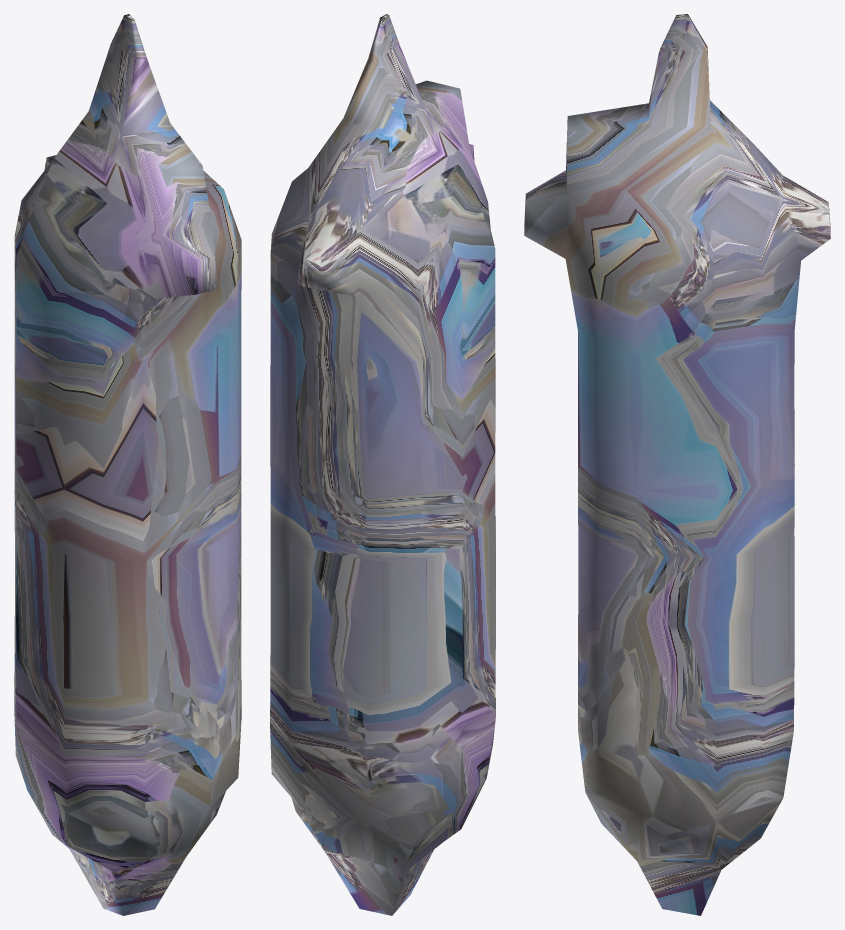
File: crystal_3_small.glb
The picture shows the model from 3 angles, left to right: view 1: azimuth 30°, elevation 25°; view 2: azimuth 150°, elevation 25°; view 3: azimuth 270°, elevation 25°; orthographic projection.
Visible parts, largest first — view 1: crystal; view 2: crystal; view 3: crystal.
Part boxes in pixels (x1,y1,x2,y2): crystal: (14,14,241,915); crystal: (270,14,495,915); crystal: (524,14,830,915).
Size of the model in its own units: 0.2124 by 0.9431 by 0.2935.
Materials: 1 (1 with a texture image).
